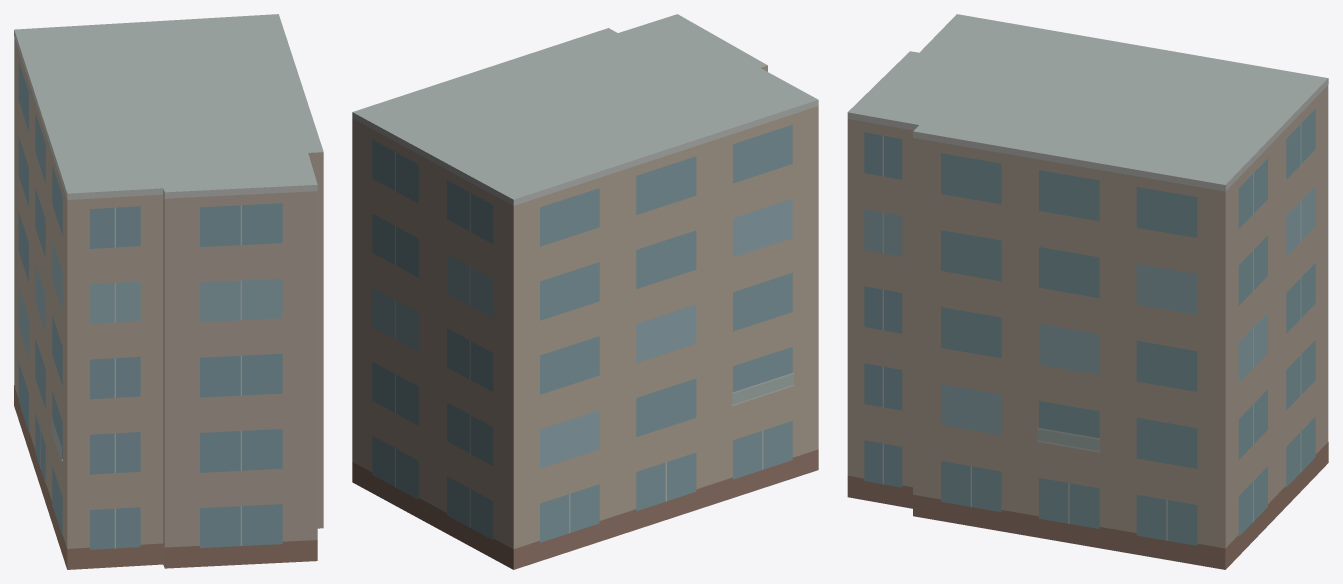
The model's file is survey-upis-32964478.glb.
The picture shows the model from 3 angles, left to right: view 1: azimuth 30°, elevation 25°; view 2: azimuth 150°, elevation 25°; view 3: azimuth 270°, elevation 25°; orthographic projection. The views are drawn at different scales.
Parts seen in each view (by area): view 1: survey-upis-32964478.tmp; view 2: survey-upis-32964478.tmp; view 3: survey-upis-32964478.tmp.
Part boxes in pixels (x1=…): survey-upis-32964478.tmp: x1=14, y1=14, x2=323, y2=569; survey-upis-32964478.tmp: x1=352, y1=14, x2=818, y2=569; survey-upis-32964478.tmp: x1=847, y1=14, x2=1328, y2=569.
Bounding box in the file's own units: 13.88 × 14.55 × 16.49.
